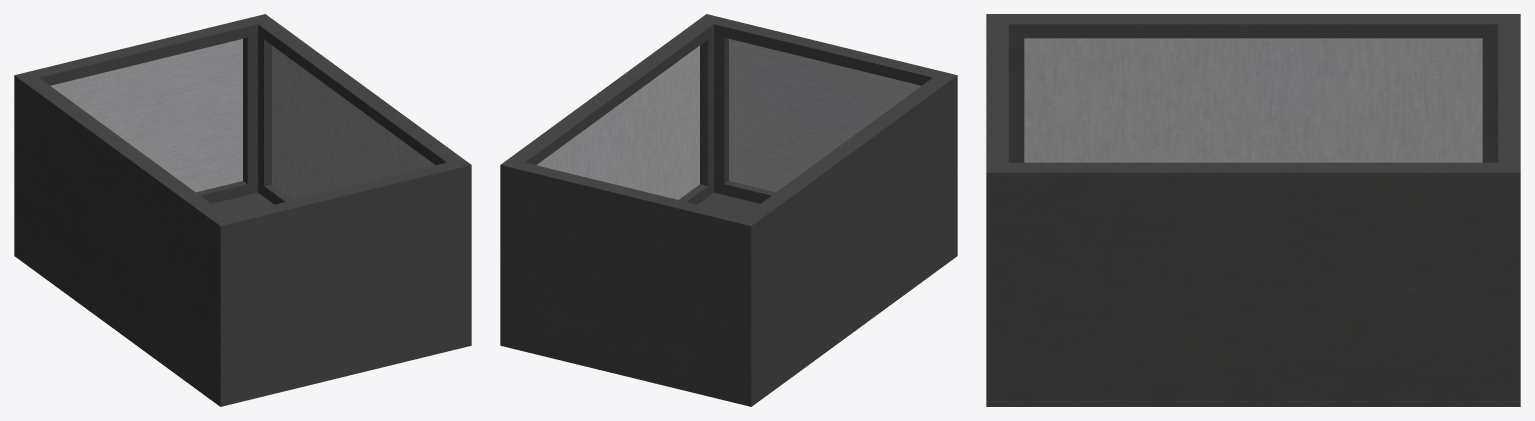
Rendered from tankwtexture2.glb.
3 renders of one model, left to right at view 1: azimuth 30°, elevation 25°; view 2: azimuth 150°, elevation 25°; view 3: azimuth 270°, elevation 25°, orthographic. The views are drawn at different scales.
Visible parts, largest first — view 1: tank; view 2: tank; view 3: tank.
Part boxes in pixels (x1,y1,x2,y2): tank: [14, 14, 471, 406]; tank: [500, 14, 957, 406]; tank: [986, 14, 1520, 406].
Bounding box in the file's own units: 57.83 × 39.77 × 82.24.
Materials: 2 (2 with a texture image).
